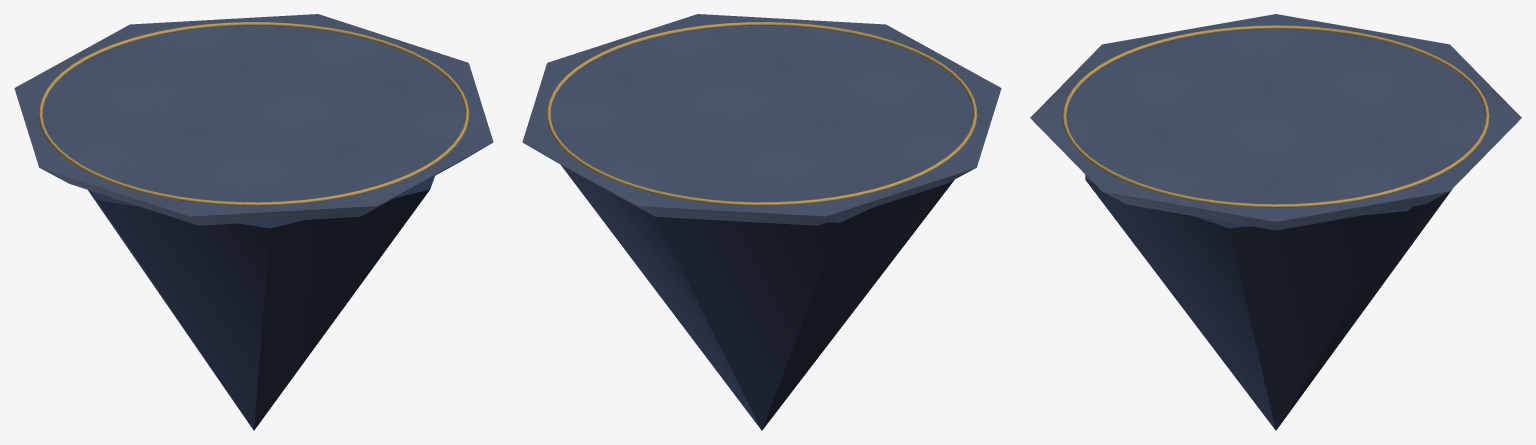
The model's file is platform-large.glb.
3 renders of one model, left to right at view 1: azimuth 30°, elevation 25°; view 2: azimuth 150°, elevation 25°; view 3: azimuth 270°, elevation 25°, orthographic.
Parts seen in each view (by area): view 1: platform-large_stone, platform-large_dark, platform-large_gold; view 2: platform-large_stone, platform-large_dark, platform-large_gold; view 3: platform-large_stone, platform-large_dark, platform-large_gold.
Part boxes in pixels (<box>): platform-large_stone: <box>14,14,493,225</box>; platform-large_dark: <box>88,176,434,430</box>; platform-large_gold: <box>38,22,469,205</box>; platform-large_stone: <box>522,14,1001,225</box>; platform-large_dark: <box>561,165,954,430</box>; platform-large_gold: <box>546,22,977,205</box>; platform-large_stone: <box>1030,14,1521,230</box>; platform-large_dark: <box>1085,175,1452,430</box>; platform-large_gold: <box>1062,25,1489,207</box>.
Size of the model in its own units: 4.8 by 3.4 by 4.8.
Materials: 3 (1 with a texture image).
